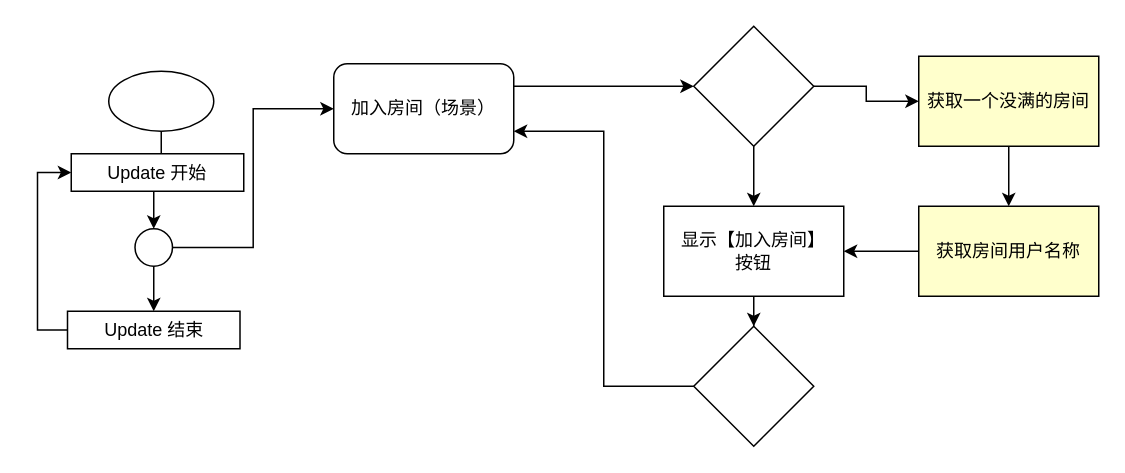
The diagram is 1125 pixels wide and 473 high, and some of its shapes have lost their labels. Here are the shapes that lost their labels. From the top down, the centre of each, then its label:
At (x=160, y=100): "开始".
At (x=753, y=85): "房间有无过期？".
At (x=753, y=385): "有没有点击加入？".
